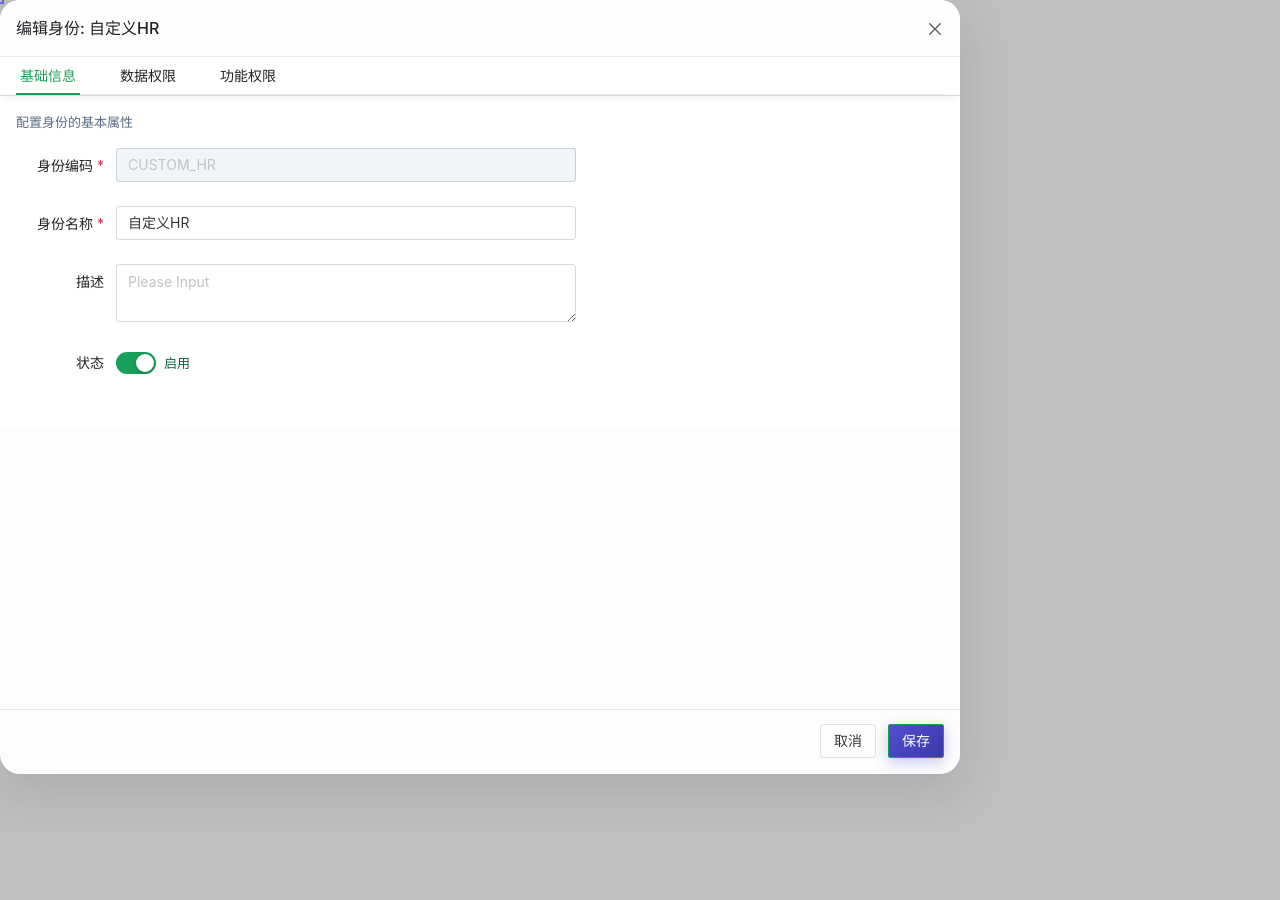
Test case: RoleEditModal 读/写拆分 › 数据权限卡为「同排紧凑版」两行结构：分段选择器 + 虚线规则框 + 标签链（2026-10-18 兵哥原型）
Click the element with class "n-tabs-tab" showing "数据权限". click: click(148, 75)
box: [120,67,176,84]
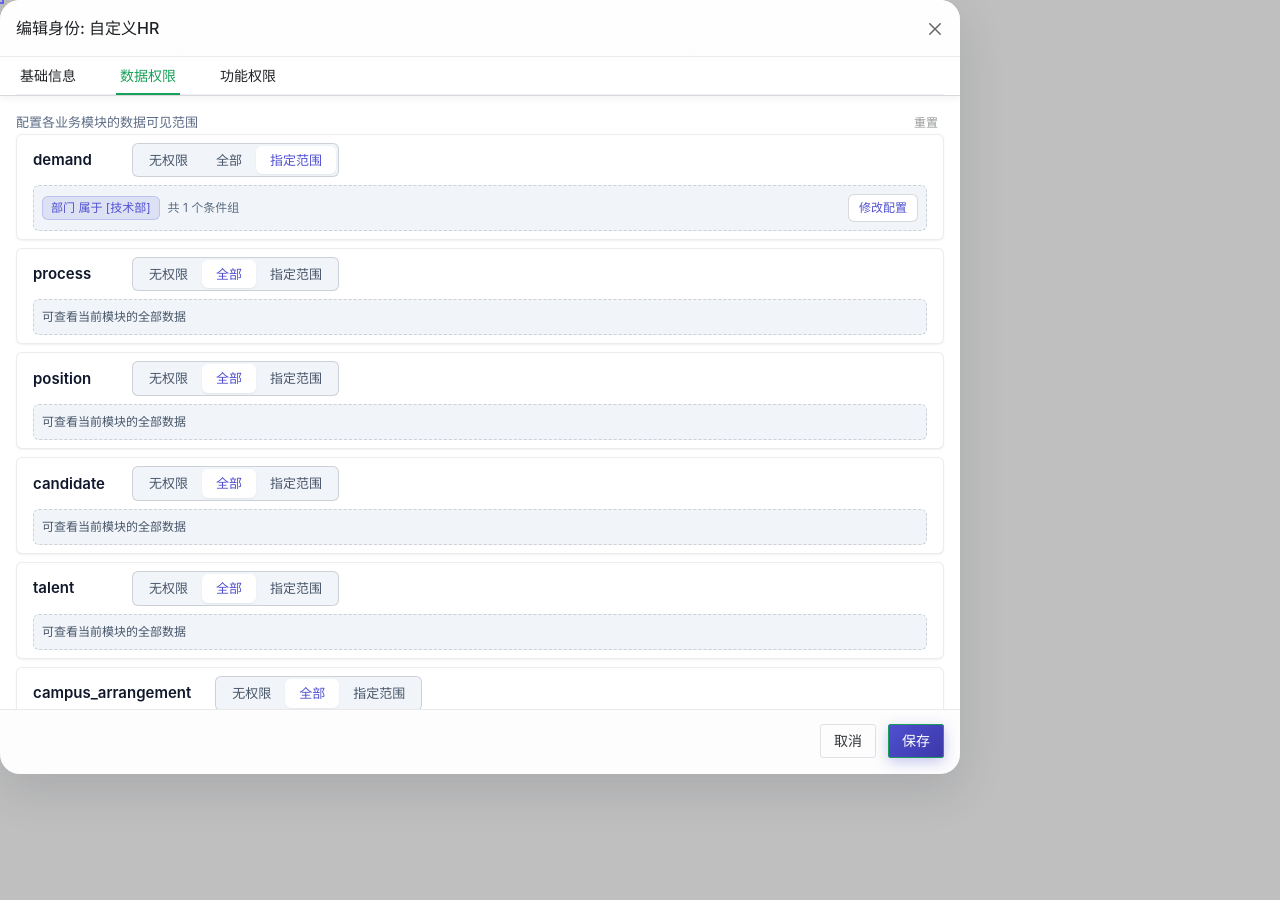
Expected: the element with class "module-card" that starts with "demand" is shown, [16,134,944,240]
Expected: the radio button with class "mc-segment" next to "demand" reads "无权限", [135,146,202,174]
Expected: the radio button with class "mc-segment" in the row of "demand" reads "指定范围", [256,146,336,174]
Click the radio button with class "mc-segment" in the row of "demand". click: click(229, 160)
box: [202,146,256,174]
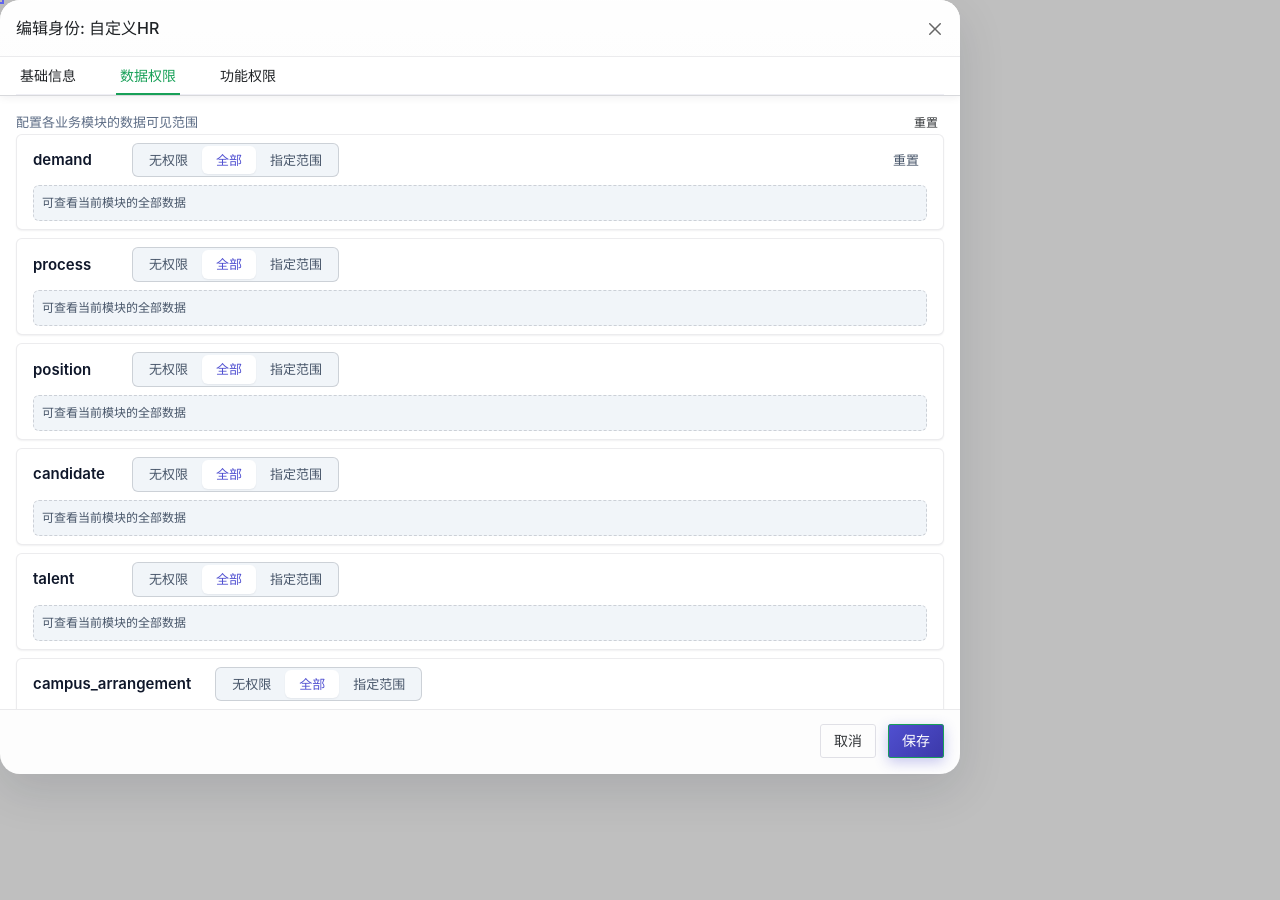
Expected: the element with class "mc-rule-container" is gone
Expected: the button with class "mc-btn-reset" is shown
Click the button with class "mc-btn-reset". click: click(906, 160)
box: [885,146,927,174]
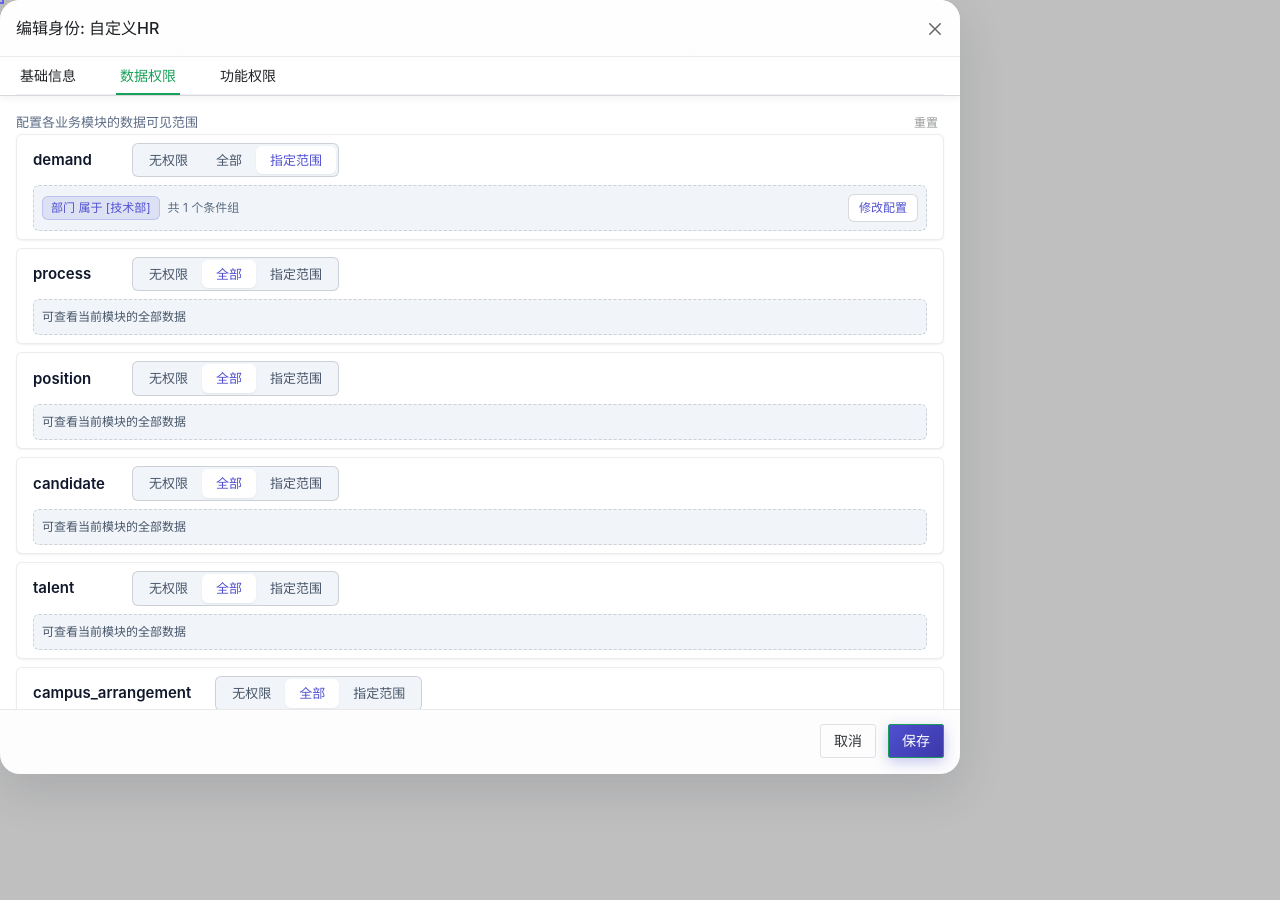
Expected: the element with class "mc-rule-container" is shown, [33,185,927,231]
Expected: the button with class "mc-btn-reset" is gone
